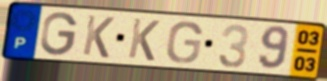3: (217, 23, 250, 69)
9: (256, 24, 290, 73)
G: (39, 11, 80, 58), (163, 20, 204, 65)
K: (125, 16, 162, 63), (80, 13, 116, 60)
